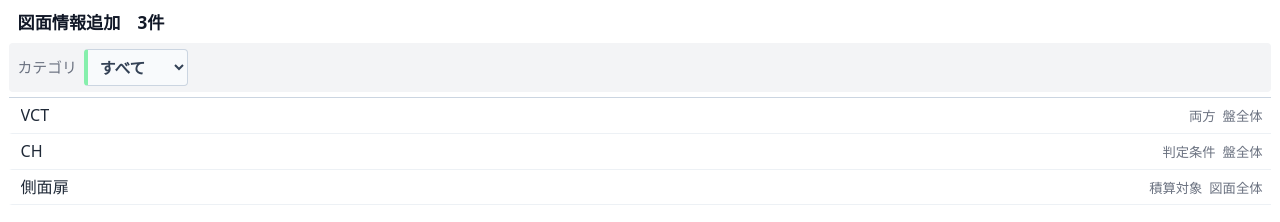
Test: DrawingEvidencePanel (Issue #40 Phase 3: 図面情報floating panel) › filters the list by category via the category select
expect the text "VCT" is shown: met, box x1=20 y1=104 x2=49 y2=126
Select "扉" in the dropdown labelled "カテゴリ" at (136, 68), box x1=84 y1=49 x2=188 y2=86
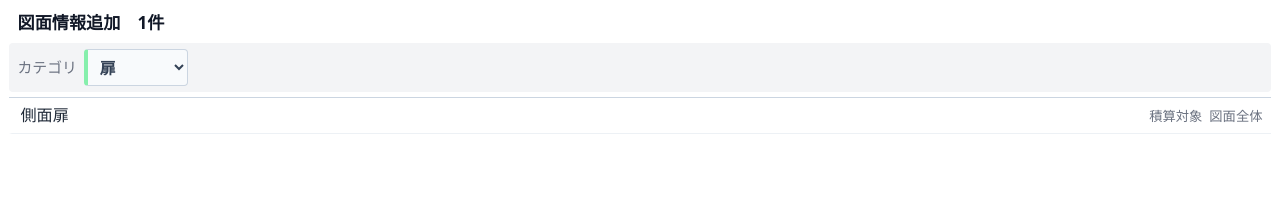
expect the text "側面扉" is shown: met, box x1=20 y1=104 x2=69 y2=126
expect the button "VCT" is gone: met
